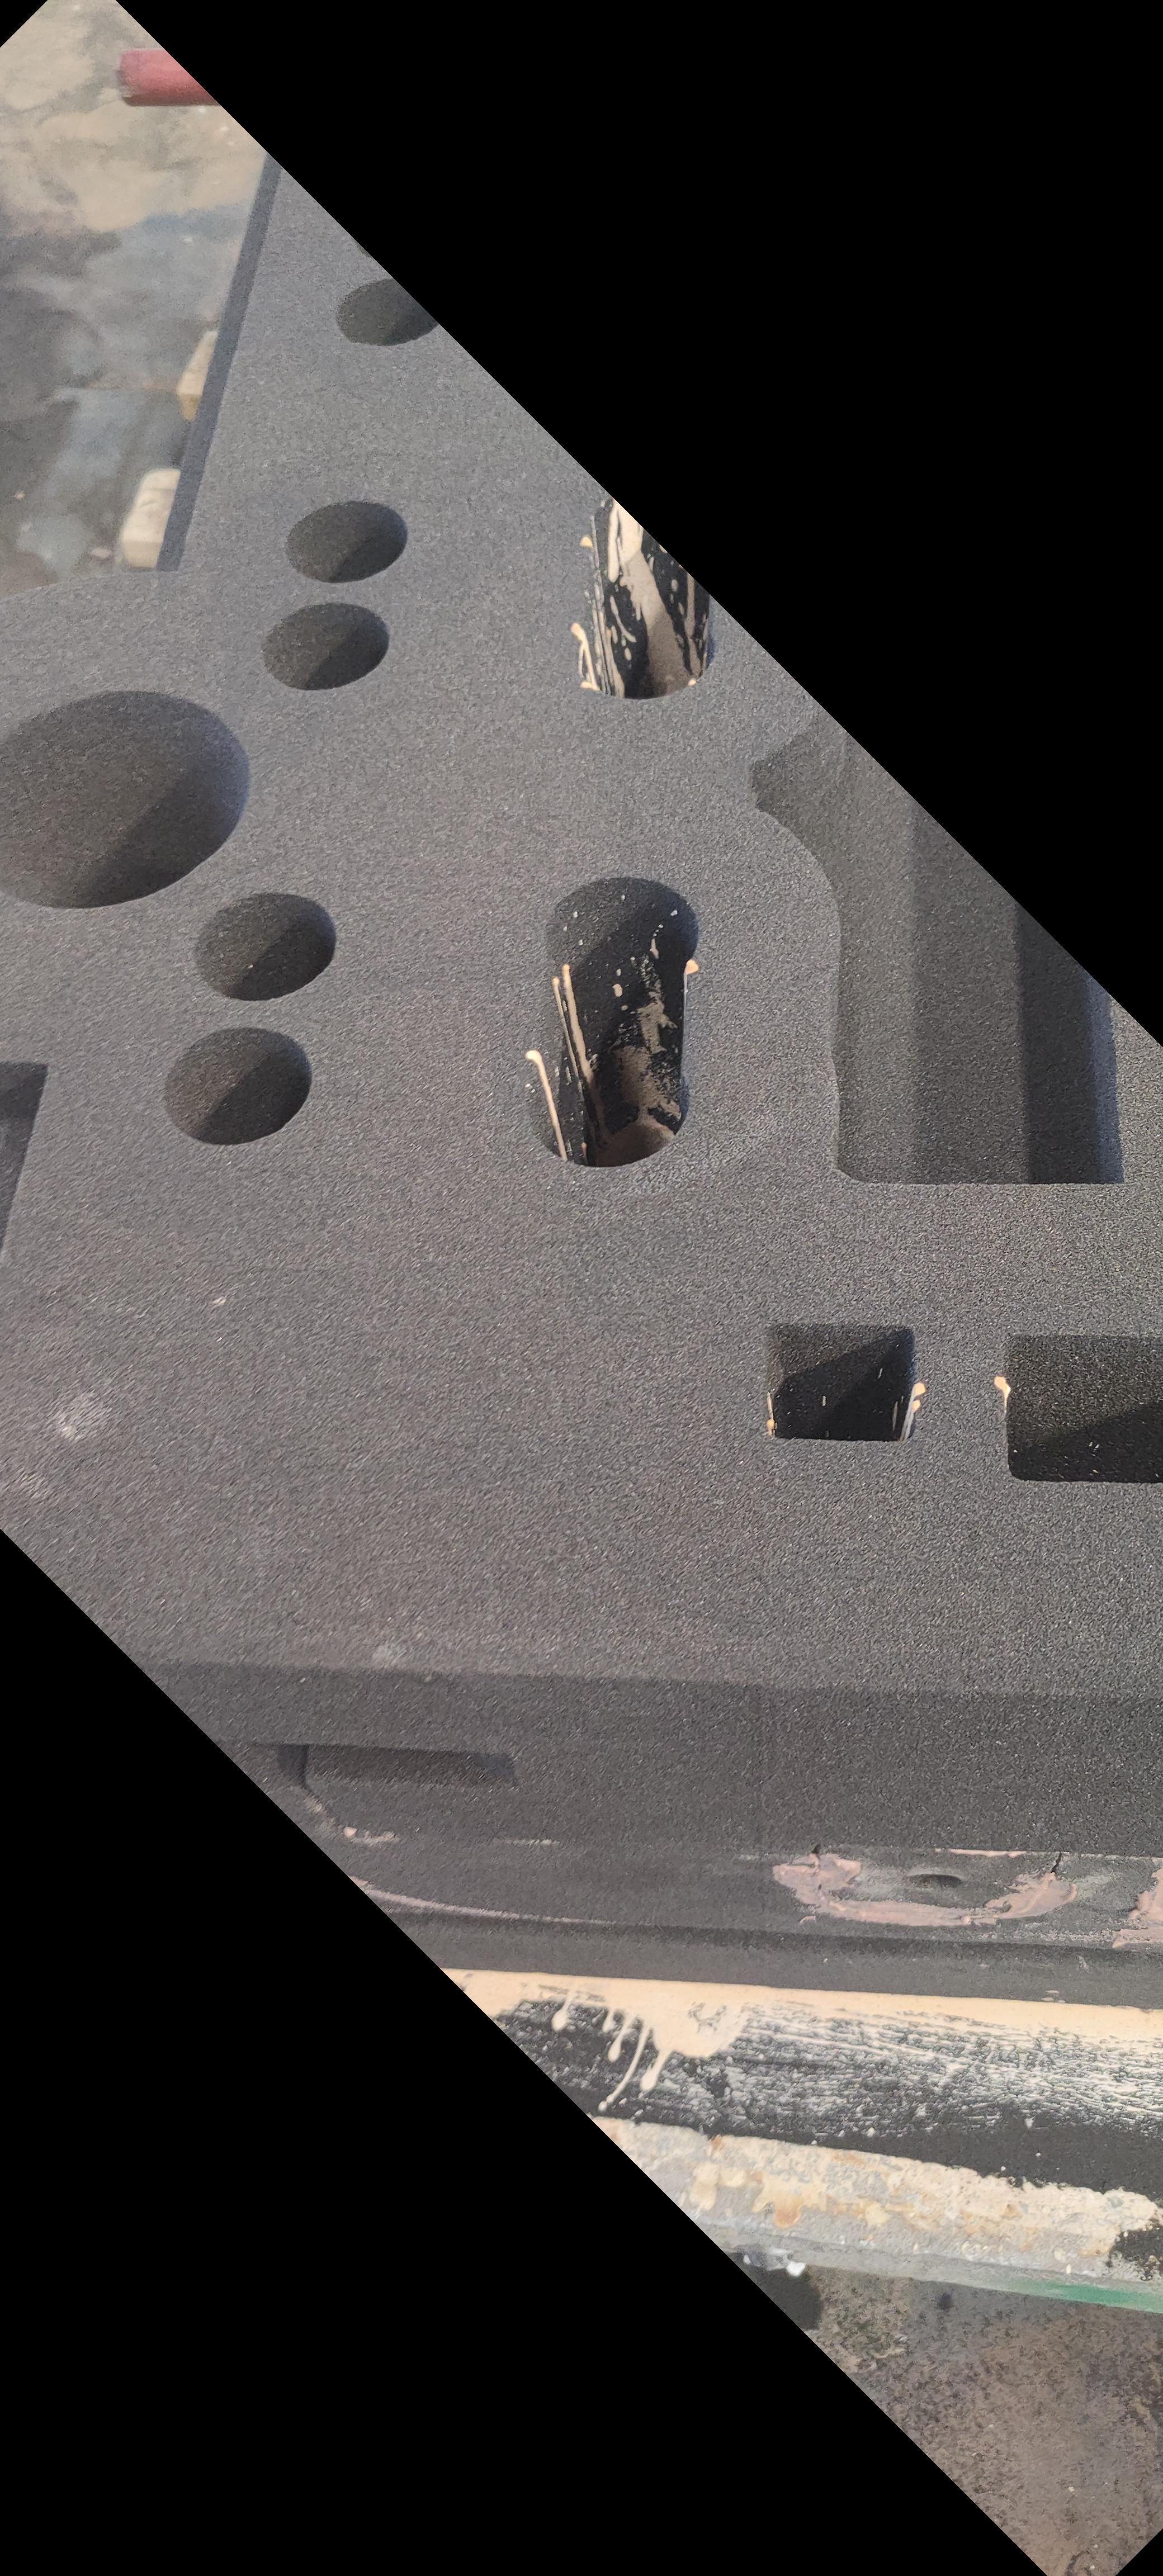pouring hole: (0, 690, 250, 910)
